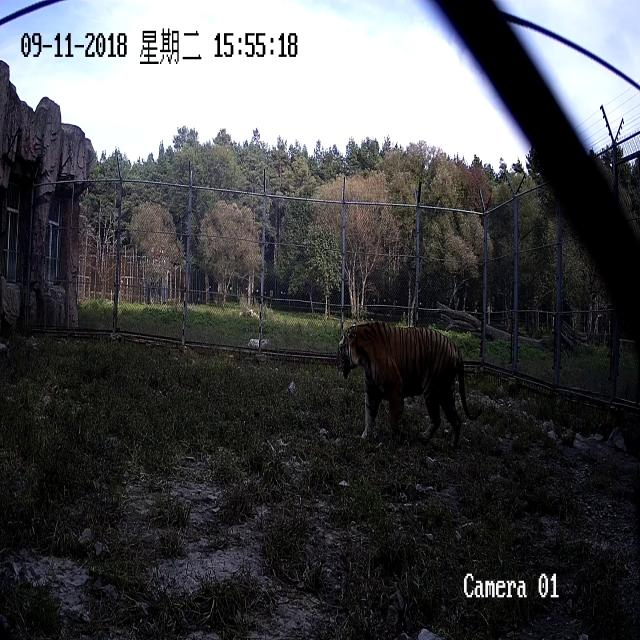Tiger: (331, 312, 489, 477)
